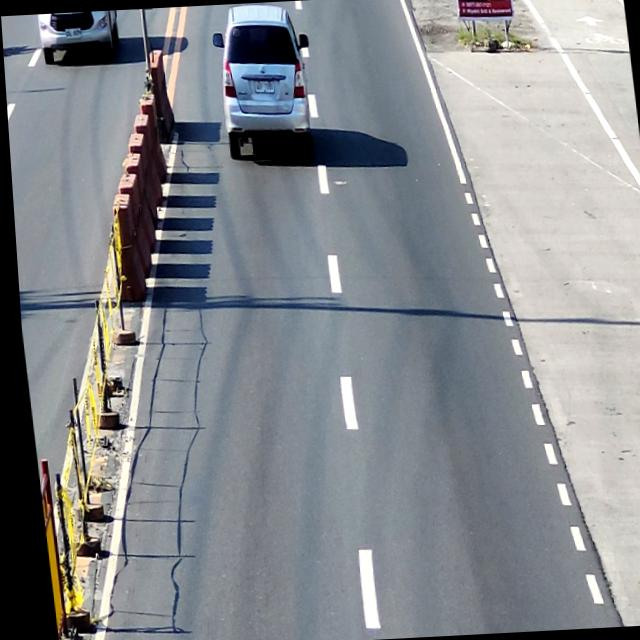Car: (209, 1, 322, 162), (37, 10, 121, 56)
License-Plate: (252, 80, 274, 94), (63, 28, 82, 38)
